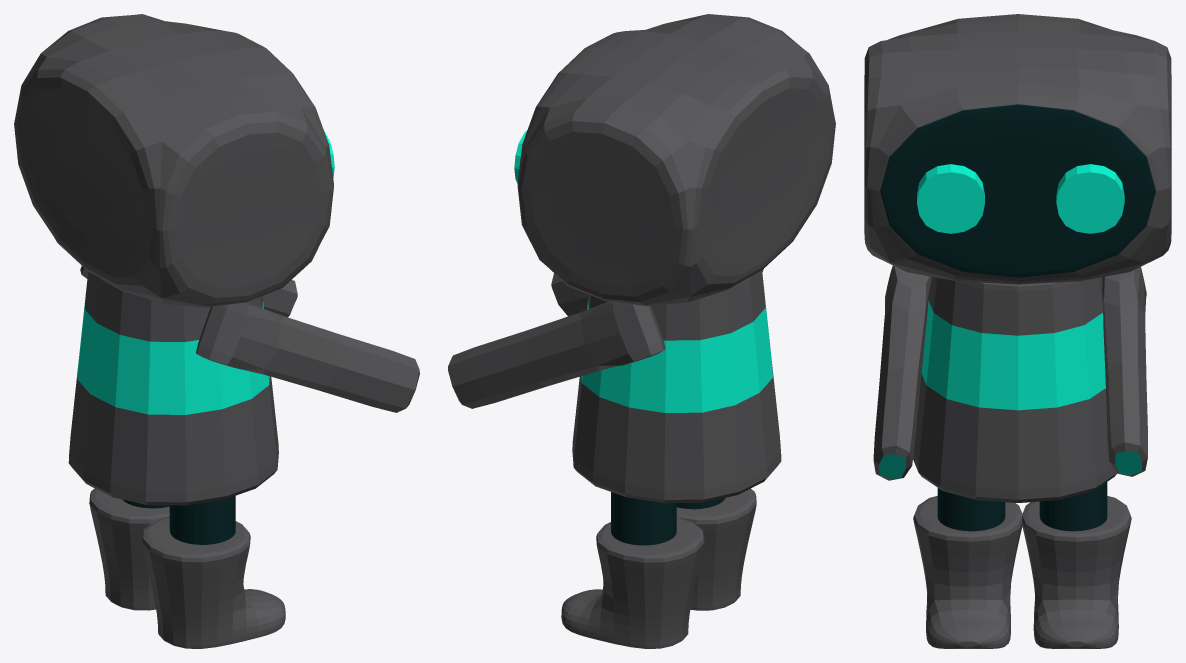
File: robotin.fbx
3 views of the same model, side by side, from view 1: azimuth 30°, elevation 25°; view 2: azimuth 150°, elevation 25°; view 3: azimuth 270°, elevation 25° (orthographic). The views are drawn at different scales.
Visible parts, largest first — view 1: Cube, Cube.001, Cube.004, Cube.002, Cube.003, Cylinder, Cube.005; view 2: Cube, Cube.001, Cube.005, Cube.003, Cube.002, Cylinder.001, Cube.004; view 3: Cube, Cube.001, Cube.003, Cube.002, Cube.004, Cube.005, Cube.007, Cube.006, Cylinder.001, Cylinder.
Boxes of the visible parts, <box> form: Cube: <box>14,14,333,307</box>; Cube.001: <box>68,271,278,505</box>; Cube.004: <box>196,302,419,412</box>; Cube.002: <box>142,516,285,648</box>; Cube.003: <box>89,488,169,610</box>; Cylinder: <box>169,496,235,544</box>; Cube.005: <box>80,266,297,317</box>; Cube: <box>517,14,835,306</box>; Cube.001: <box>572,270,781,503</box>; Cube.005: <box>448,301,665,408</box>; Cube.003: <box>561,517,704,648</box>; Cube.002: <box>676,488,756,610</box>; Cylinder.001: <box>611,492,676,545</box>; Cube.004: <box>551,269,763,316</box>; Cube: <box>864,14,1171,284</box>; Cube.001: <box>913,277,1116,502</box>; Cube.003: <box>1022,496,1131,648</box>; Cube.002: <box>913,496,1022,648</box>; Cube.004: <box>873,265,931,480</box>; Cube.005: <box>1102,267,1147,476</box>; Cube.007: <box>1056,164,1124,233</box>; Cube.006: <box>917,164,984,233</box>; Cylinder.001: <box>1039,482,1107,531</box>; Cylinder: <box>937,488,1005,531</box>.
Size of the model in its own units: 273 by 530 by 260.
